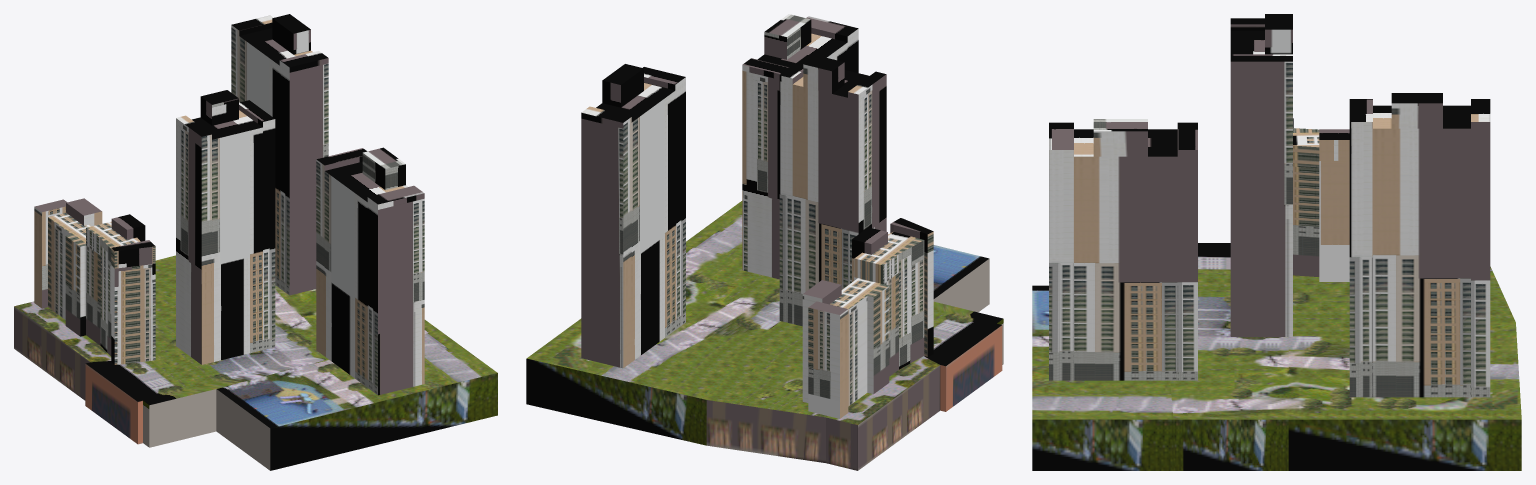
The model's file is ICJ00101_C.glb.
3 renders of one model, left to right at view 1: azimuth 30°, elevation 25°; view 2: azimuth 150°, elevation 25°; view 3: azimuth 270°, elevation 25°, orthographic. The views are drawn at different scales.
Visible parts, largest first — view 1: MainBuilding; view 2: MainBuilding; view 3: MainBuilding.
Boxes of the visible parts, box(x1,y1,x2,y2) form: MainBuilding: box(14, 14, 497, 470); MainBuilding: box(526, 14, 1003, 470); MainBuilding: box(1032, 14, 1521, 470).
Bounding box in the file's own units: 3007 × 2743 × 3523.
1 material, 1 textured.
